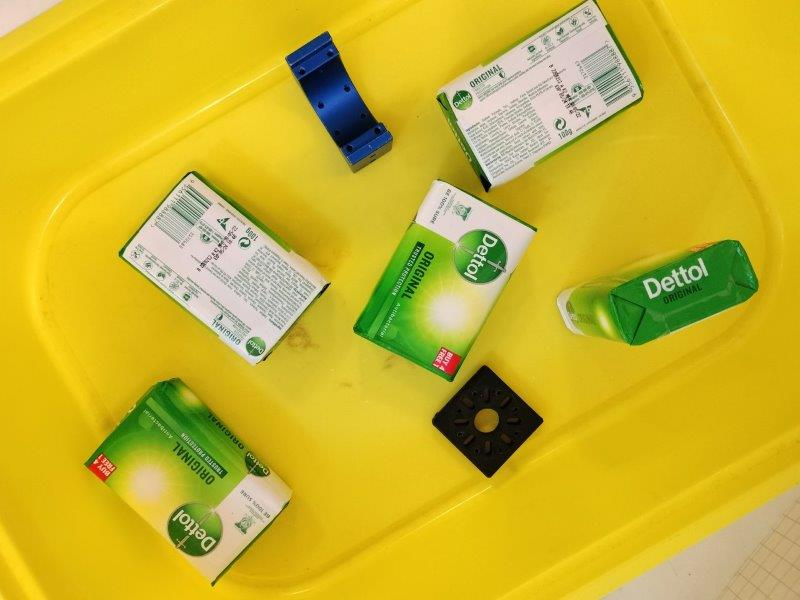Dettol: (85, 378, 293, 588), (120, 171, 329, 366), (437, 2, 644, 191), (355, 180, 537, 382), (554, 240, 758, 346)
